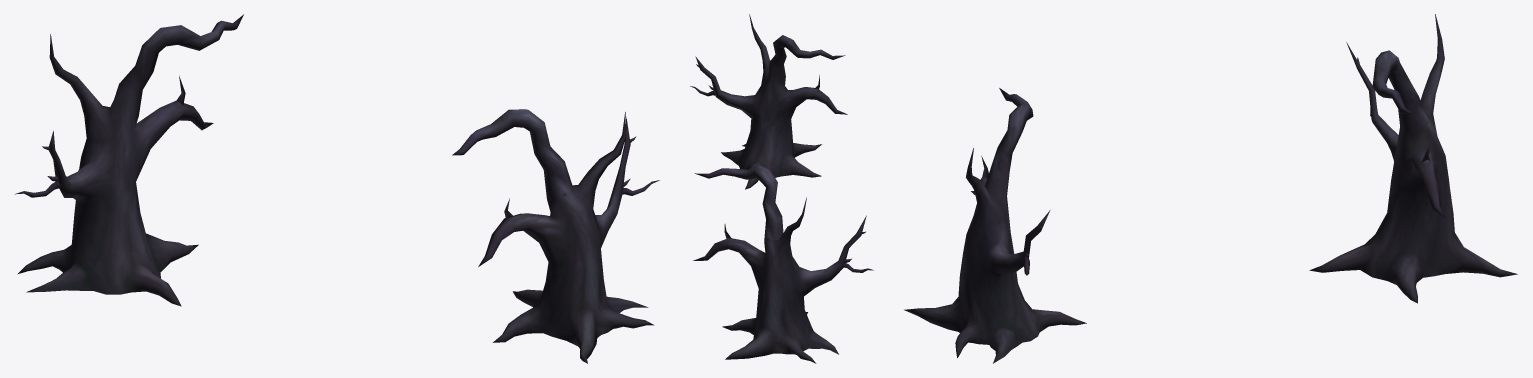
Rendered from Area07_26.fbx.
3 renders of one model, left to right at view 1: azimuth 30°, elevation 25°; view 2: azimuth 150°, elevation 25°; view 3: azimuth 270°, elevation 25°, orthographic. The views are drawn at different scales.
Visible parts, largest first — view 1: Area07_26; view 2: Area07_26; view 3: Area07_26.
Boxes of the visible parts, x1,y1,x2,y2 form: Area07_26: (15,14,659,363); Area07_26: (690,14,873,363); Area07_26: (904,14,1517,363).
Bounding box in the file's own units: 1137 × 622 × 1376.
